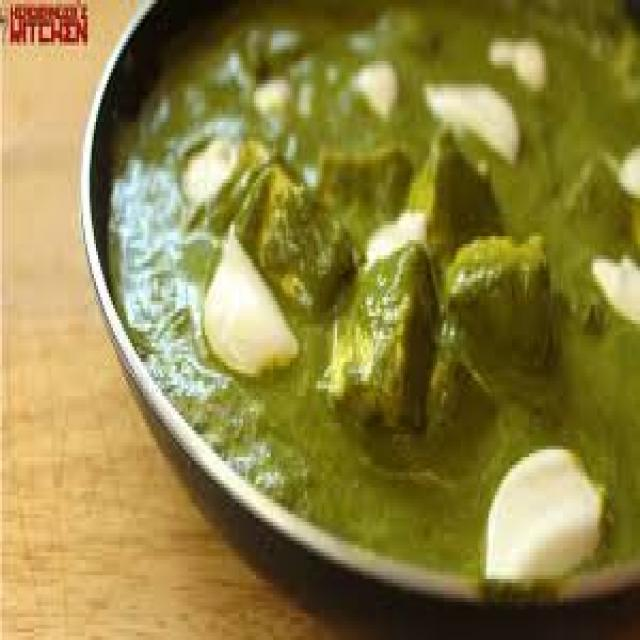Palak Paneer: (104, 3, 640, 600)
